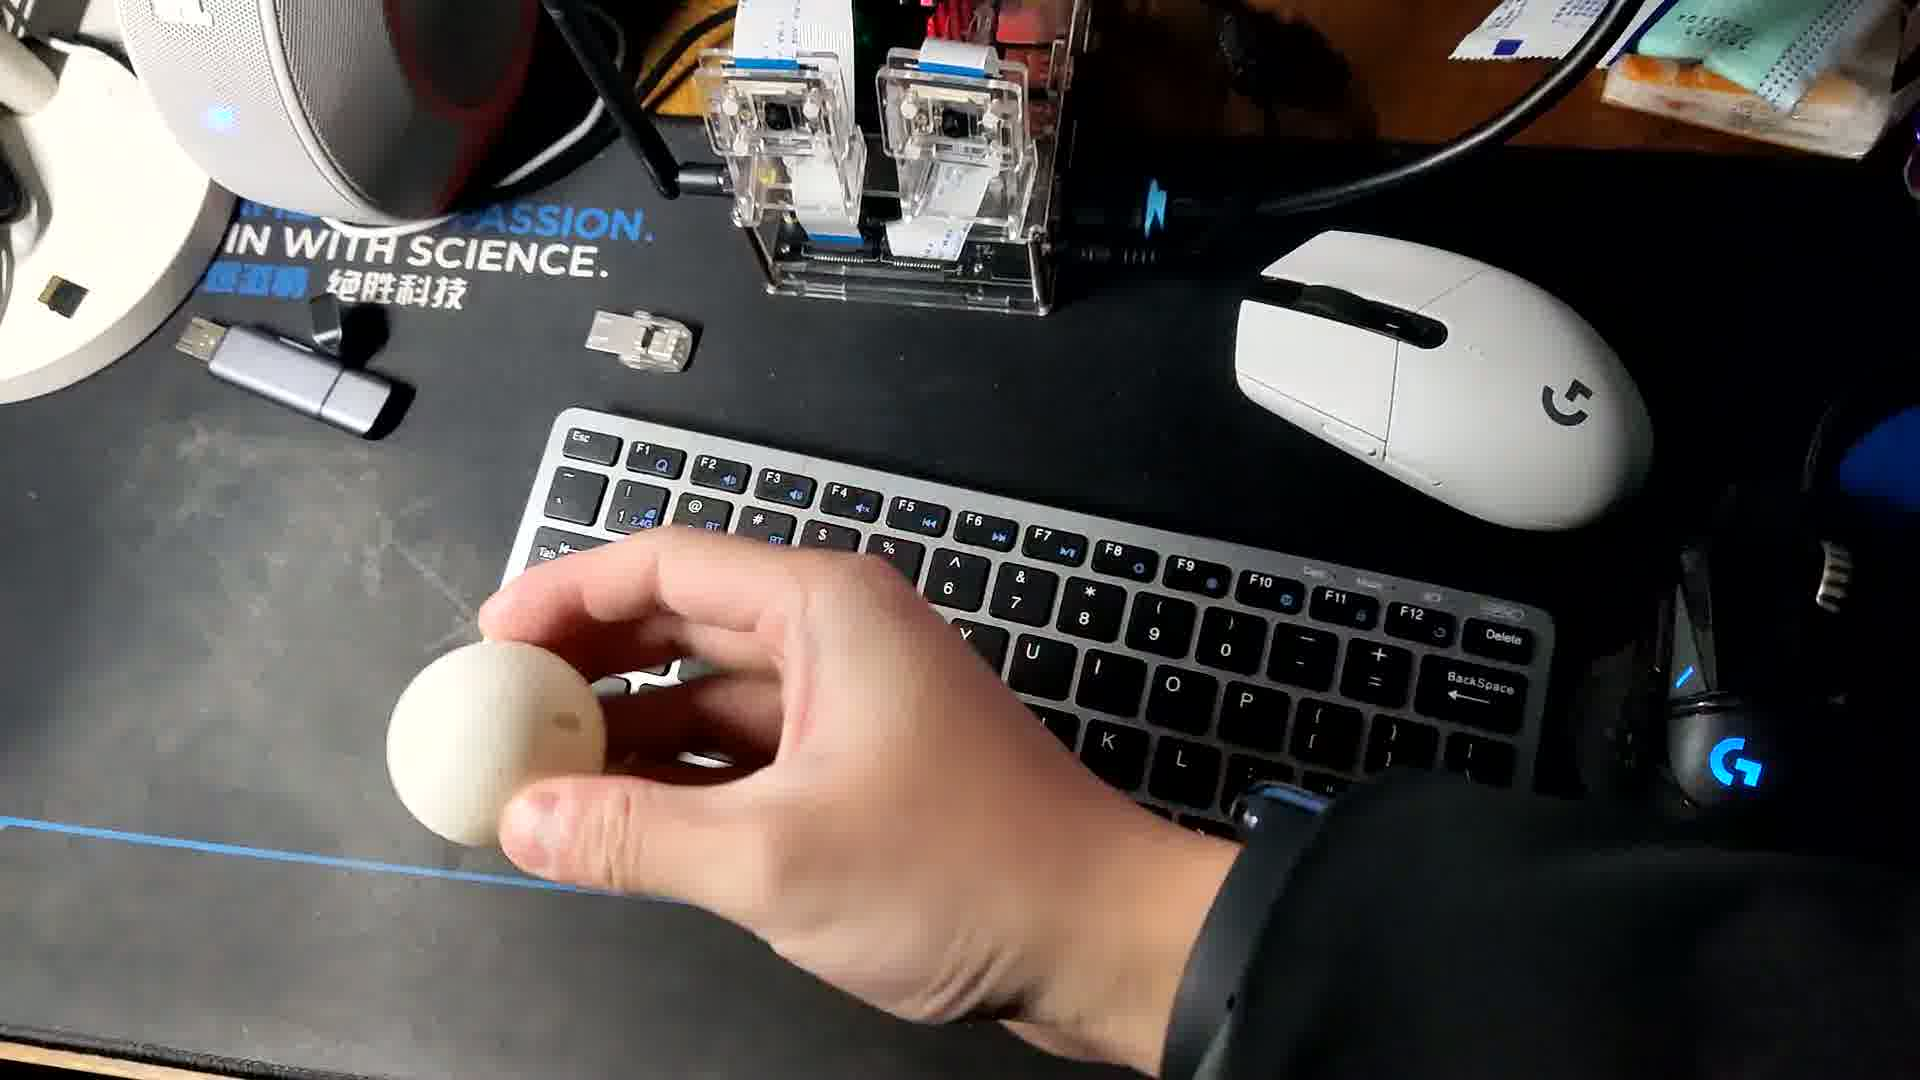Ball: (385, 638, 612, 856)
